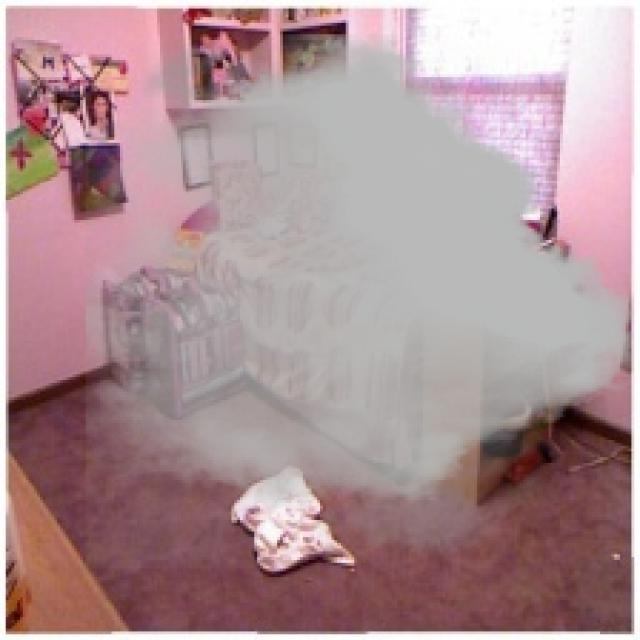smoke: (86, 26, 634, 568)
